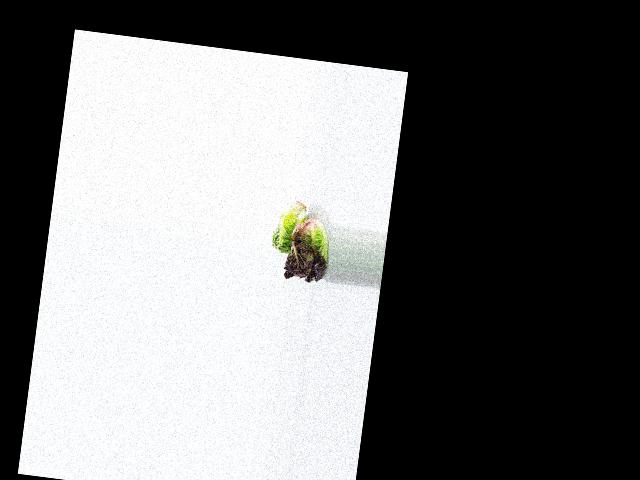lettuce: (269, 196, 309, 256)
